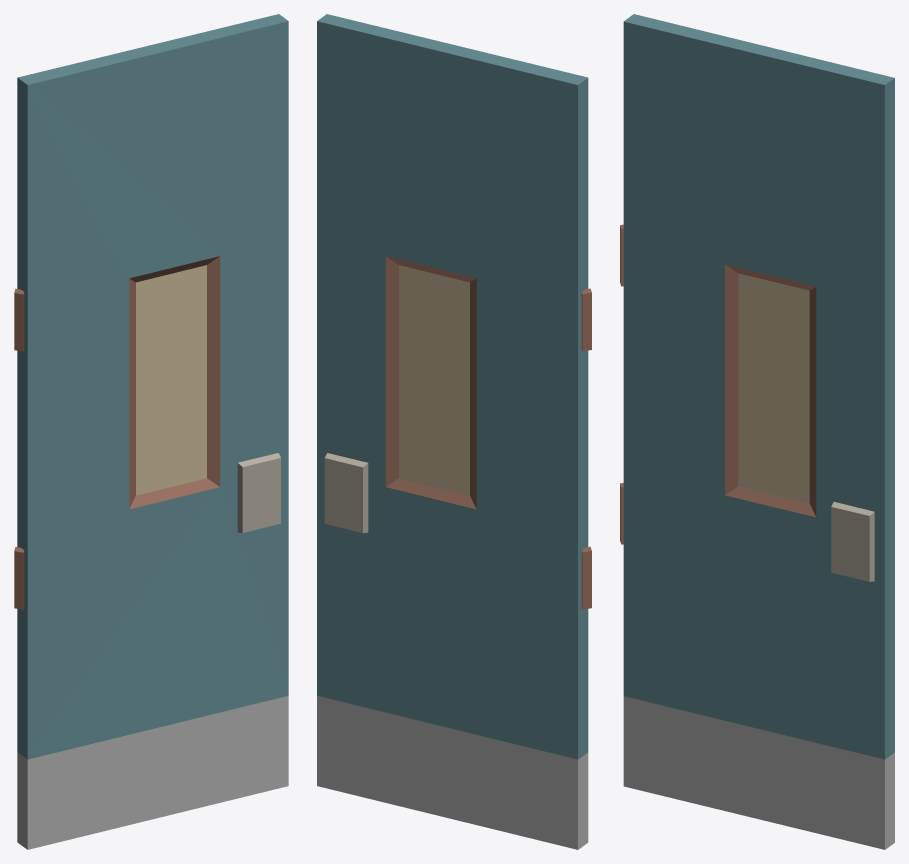
Rendered from SM_Door_B2_Right.fbx.
3 views of the same model, side by side, from view 1: azimuth 30°, elevation 25°; view 2: azimuth 150°, elevation 25°; view 3: azimuth 330°, elevation 25° (orthographic).
Parts seen in each view (by area): view 1: SM_Door_B2_Right; view 2: SM_Door_B2_Right; view 3: SM_Door_B2_Right.
Boxes of the visible parts, bbox=[...] form: SM_Door_B2_Right: bbox=[14, 14, 288, 849]; SM_Door_B2_Right: bbox=[317, 14, 591, 849]; SM_Door_B2_Right: bbox=[620, 14, 894, 849].
Bounding box in the file's own units: 88.06 × 238 × 10.04.
